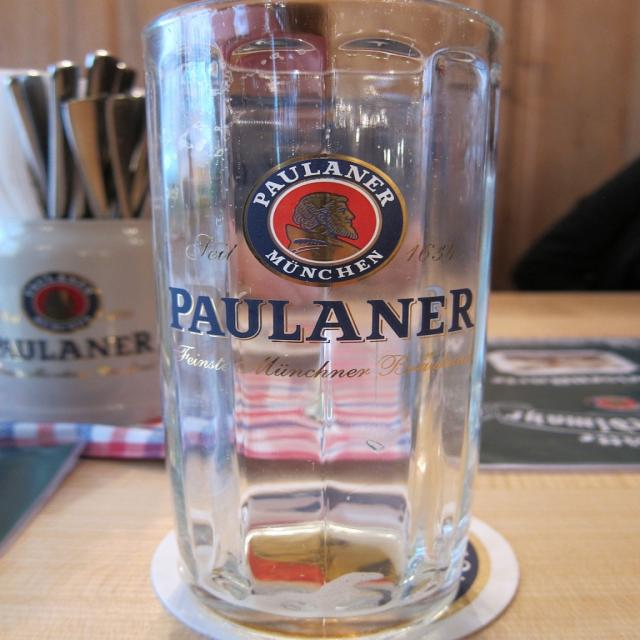paulaner: (245, 156, 406, 288), (19, 272, 102, 334)
